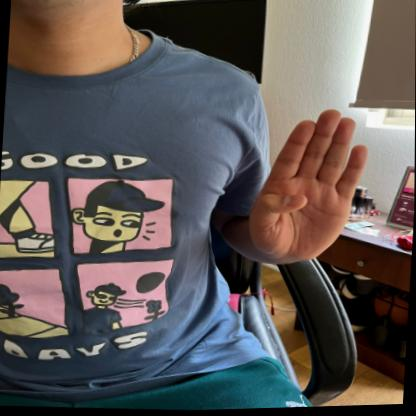B: (246, 101, 373, 270)
